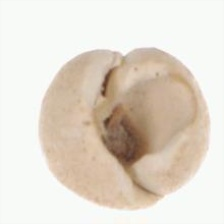L3: (92, 87, 150, 167)
L4: (39, 48, 211, 212)
